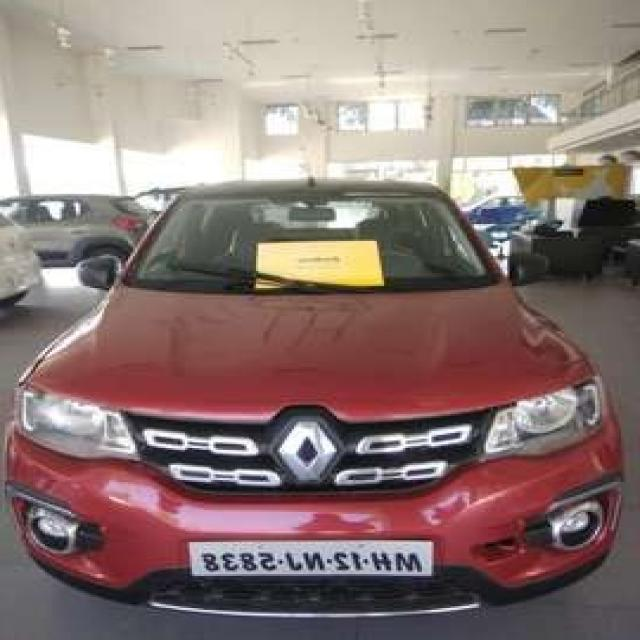license_plate: (182, 534, 440, 584)
